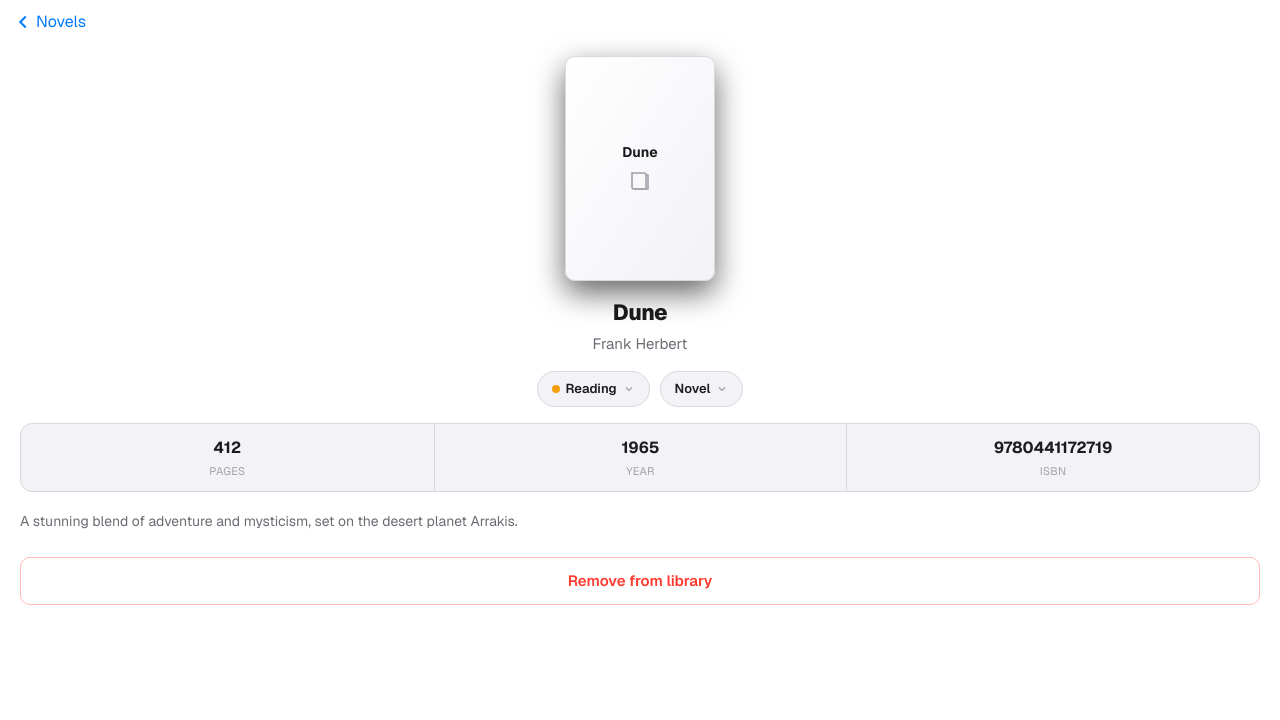
Test: BookDetail › changes the category and refreshes after selecting a new option
Click the button "Novel" at (702, 389), box left=660, top=371, right=743, bottom=406
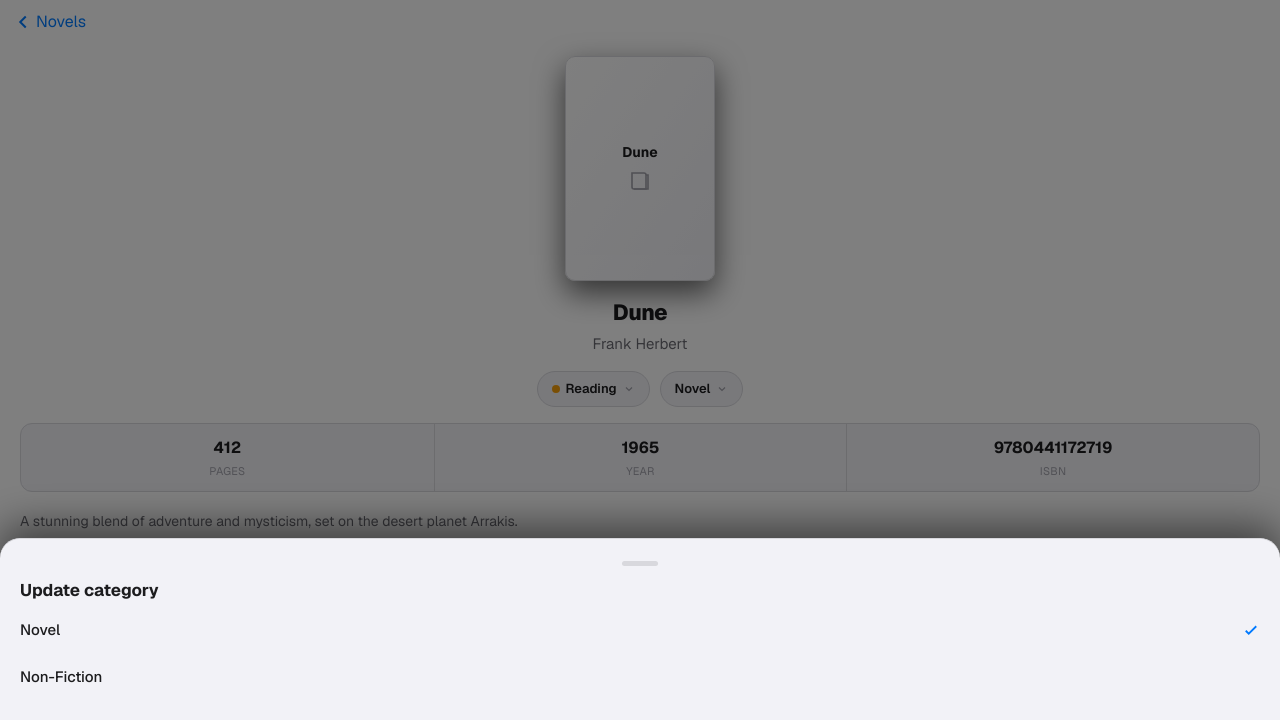
Click the button "Non-Fiction" at (61, 676), box left=20, top=654, right=1260, bottom=700
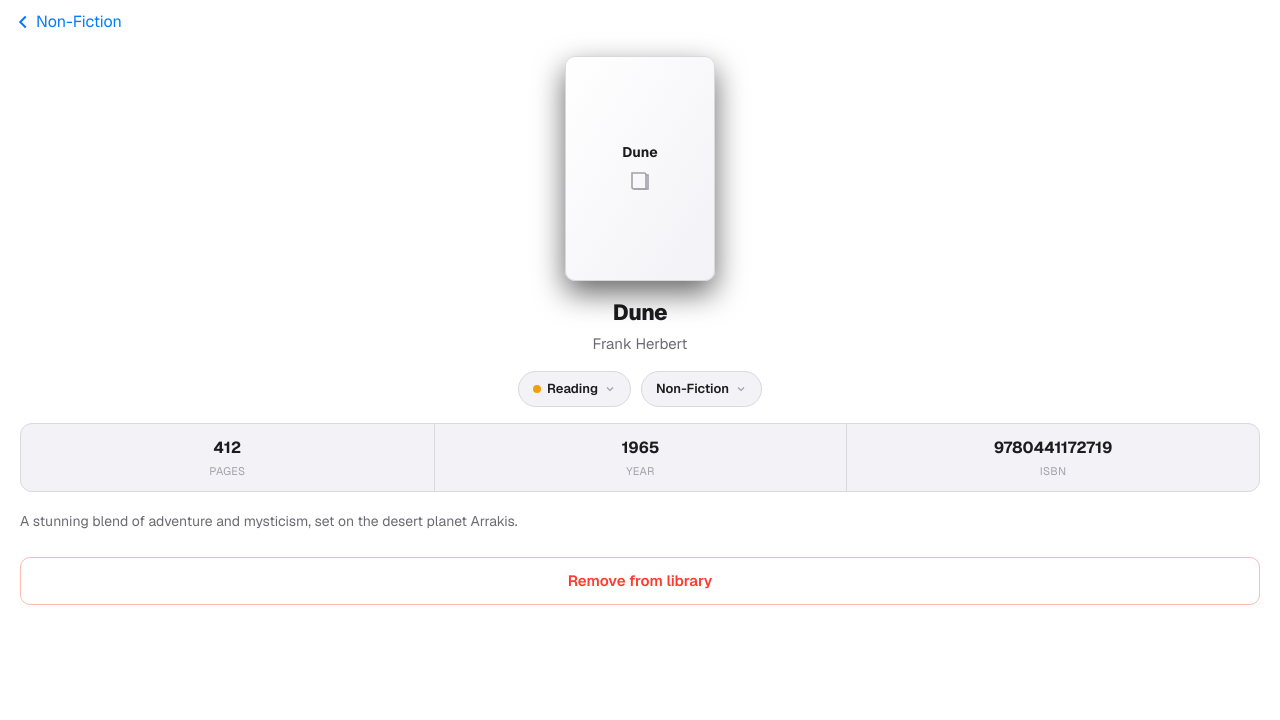
expect the dialog is gone: met
expect the button "Non-Fiction" is shown: met, box left=641, top=371, right=762, bottom=406
